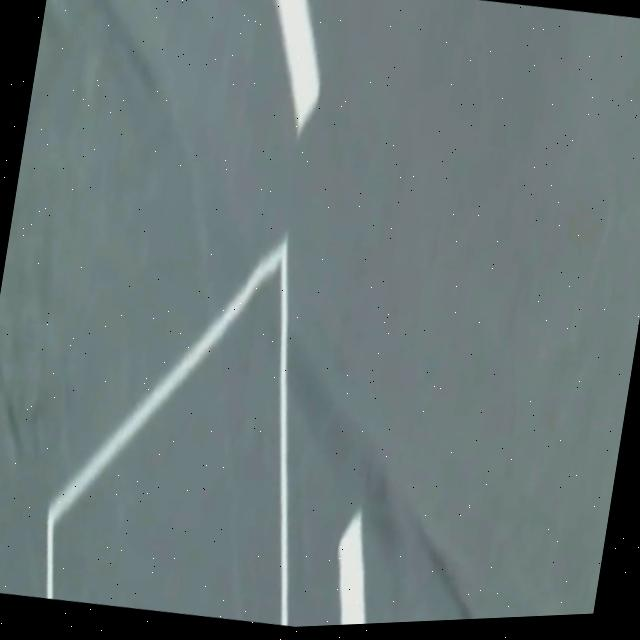center: (275, 0, 320, 135), (337, 511, 365, 625)
